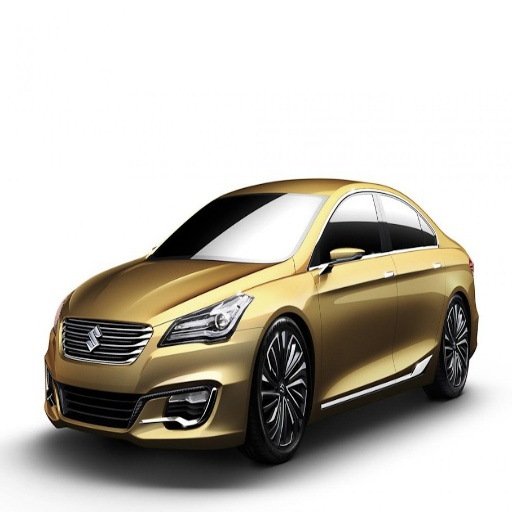front_bumper: (44, 307, 263, 444)
front_glass: (150, 191, 328, 259)
front_left_door: (310, 188, 395, 396)
